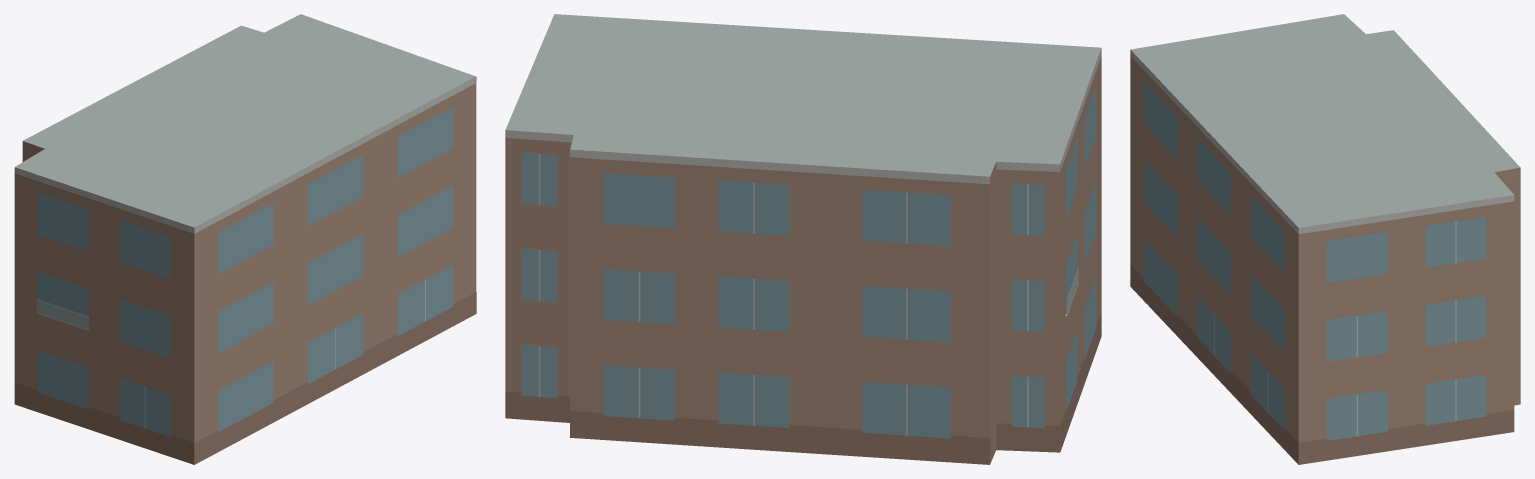
File: survey-upis-32703543.glb
The picture shows the model from 3 angles, left to right: view 1: azimuth 30°, elevation 25°; view 2: azimuth 150°, elevation 25°; view 3: azimuth 270°, elevation 25°; orthographic projection. The views are drawn at different scales.
Parts seen in each view (by area): view 1: survey-upis-32703543.tmp; view 2: survey-upis-32703543.tmp; view 3: survey-upis-32703543.tmp.
Boxes of the visible parts, box(x1,y1,x2,y2) form: survey-upis-32703543.tmp: box(14, 14, 476, 464); survey-upis-32703543.tmp: box(505, 14, 1101, 464); survey-upis-32703543.tmp: box(1130, 14, 1520, 464).
Bounding box in the file's own units: 17.73 × 9.15 × 13.67.
